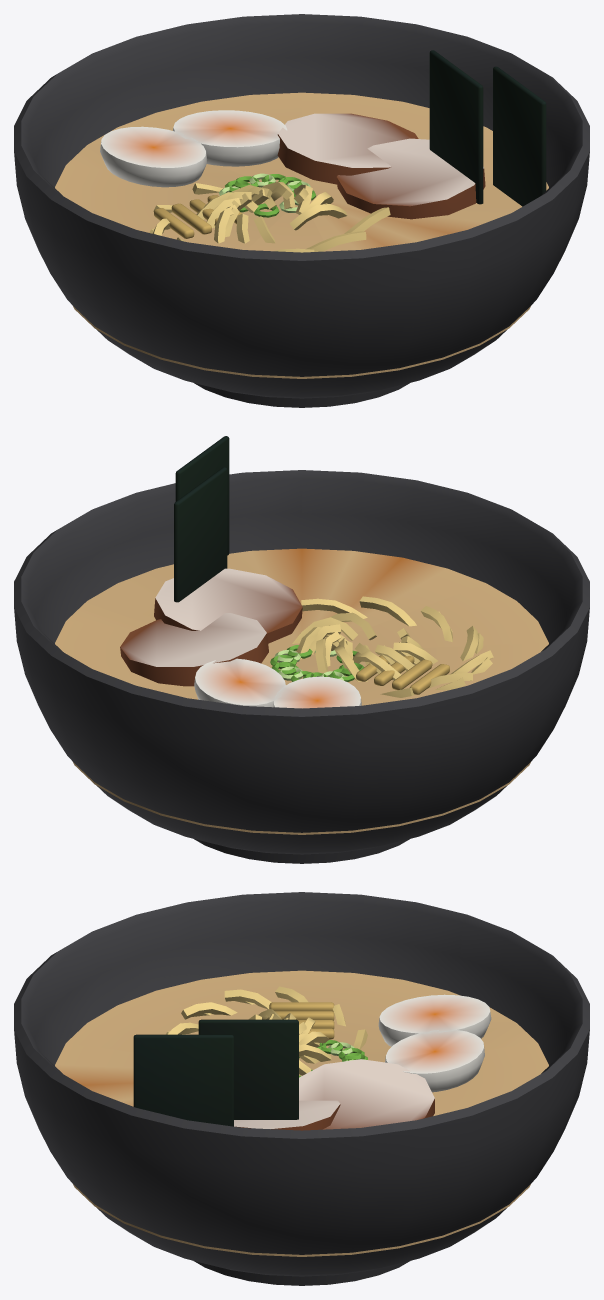
File: dish-ramen-lod1.glb
The picture shows the model from 3 angles, top to bottom: view 1: azimuth 30°, elevation 25°; view 2: azimuth 150°, elevation 25°; view 3: azimuth 270°, elevation 25°; orthographic projection.
Visible parts, largest first — view 1: ramen.lod1__table dark glaze, ramen.lod1__food glaze, ramen.lod1__food; view 2: ramen.lod1__table dark glaze, ramen.lod1__food glaze, ramen.lod1__food; view 3: ramen.lod1__table dark glaze, ramen.lod1__food glaze, ramen.lod1__food.
Boxes of the visible parts, box(x1,y1,x2,y2) form: ramen.lod1__table dark glaze: box(14, 14, 589, 407); ramen.lod1__food glaze: box(55, 92, 548, 378); ramen.lod1__food: box(154, 50, 546, 238); ramen.lod1__table dark glaze: box(14, 470, 589, 863); ramen.lod1__food glaze: box(55, 548, 548, 834); ramen.lod1__food: box(120, 436, 449, 694); ramen.lod1__table dark glaze: box(14, 892, 589, 1285); ramen.lod1__food glaze: box(55, 970, 548, 1256); ramen.lod1__food: box(133, 1002, 434, 1130).
Size of the model in its own units: 0.196 by 0.102 by 0.1949.
